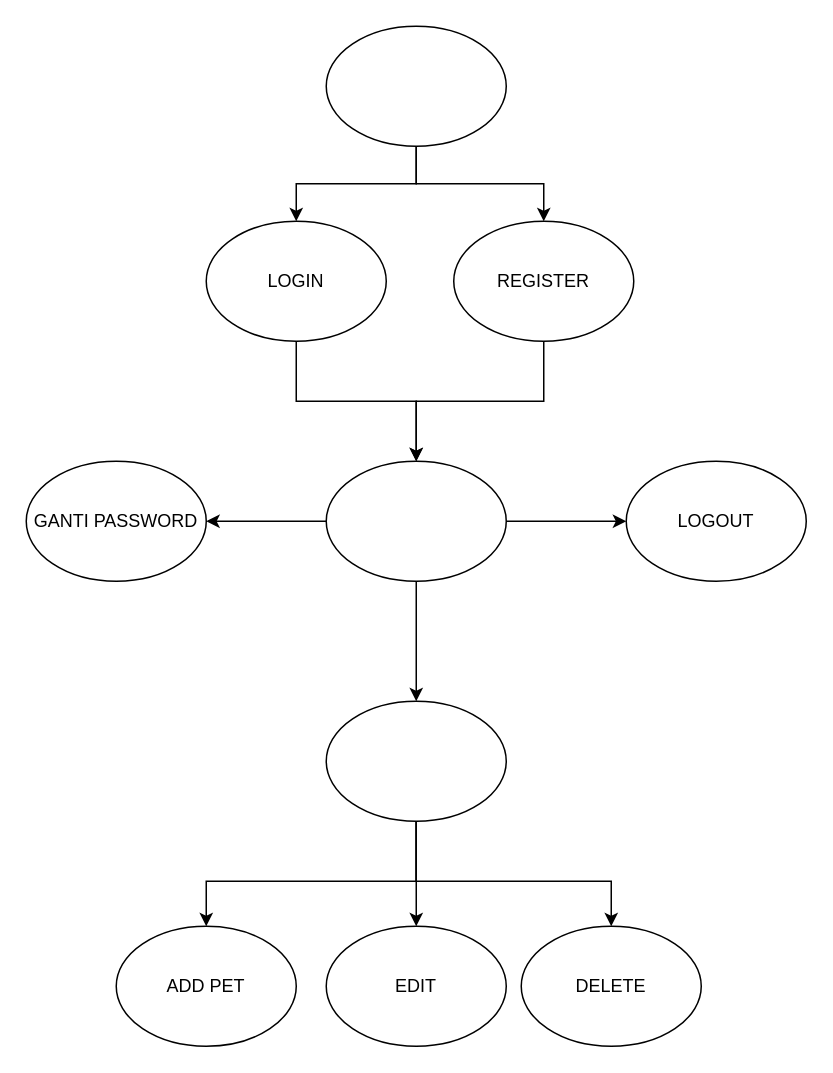
The diagram is 833 pixels wide and 1073 high, and some of its shapes have lost their labels. Each missing label, with the centre of its shape:
"DASHBOARD" goes at point 415,85.
"DASHBOARD UTAMA" goes at point 415,520.
"PET LIST" goes at point 415,760.
